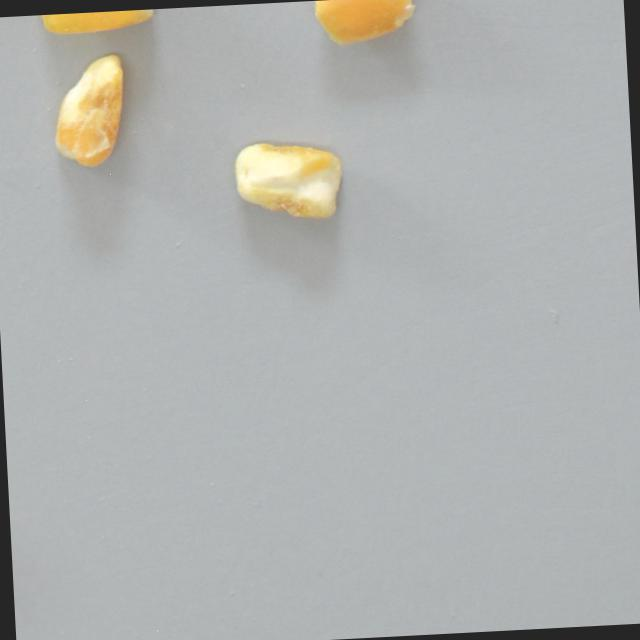estandar: (313, 0, 416, 47)
pelicula: (45, 52, 133, 170), (231, 140, 346, 225), (35, 8, 155, 38)
